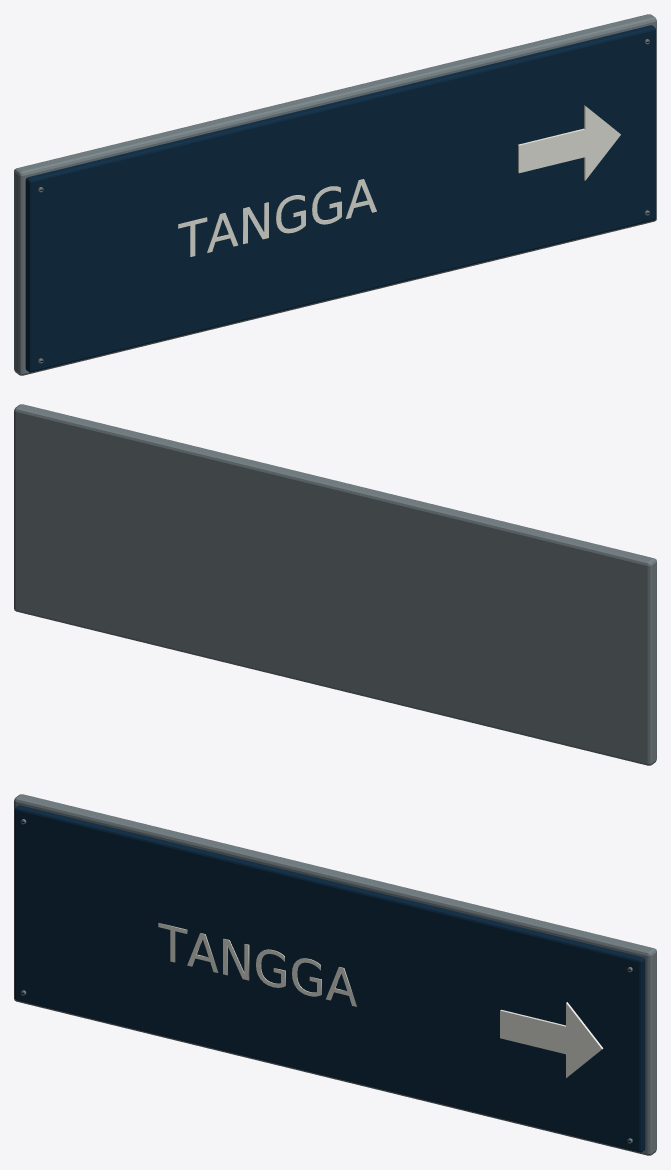
File: OAA_Papan_Arah_Tangga_Kanan.fbx
3 renders of one model, top to bottom at view 1: azimuth 30°, elevation 25°; view 2: azimuth 150°, elevation 25°; view 3: azimuth 330°, elevation 25°, orthographic.
Visible parts, largest first — view 1: Body; view 2: Body; view 3: Body.
Part boxes in pixels (left/top/right/bottom): Body: left=14, top=14, right=656, bottom=375; Body: left=14, top=404, right=656, bottom=765; Body: left=14, top=794, right=656, bottom=1155.
Size of the model in its own units: 0.85 by 0.26 by 0.0325.
